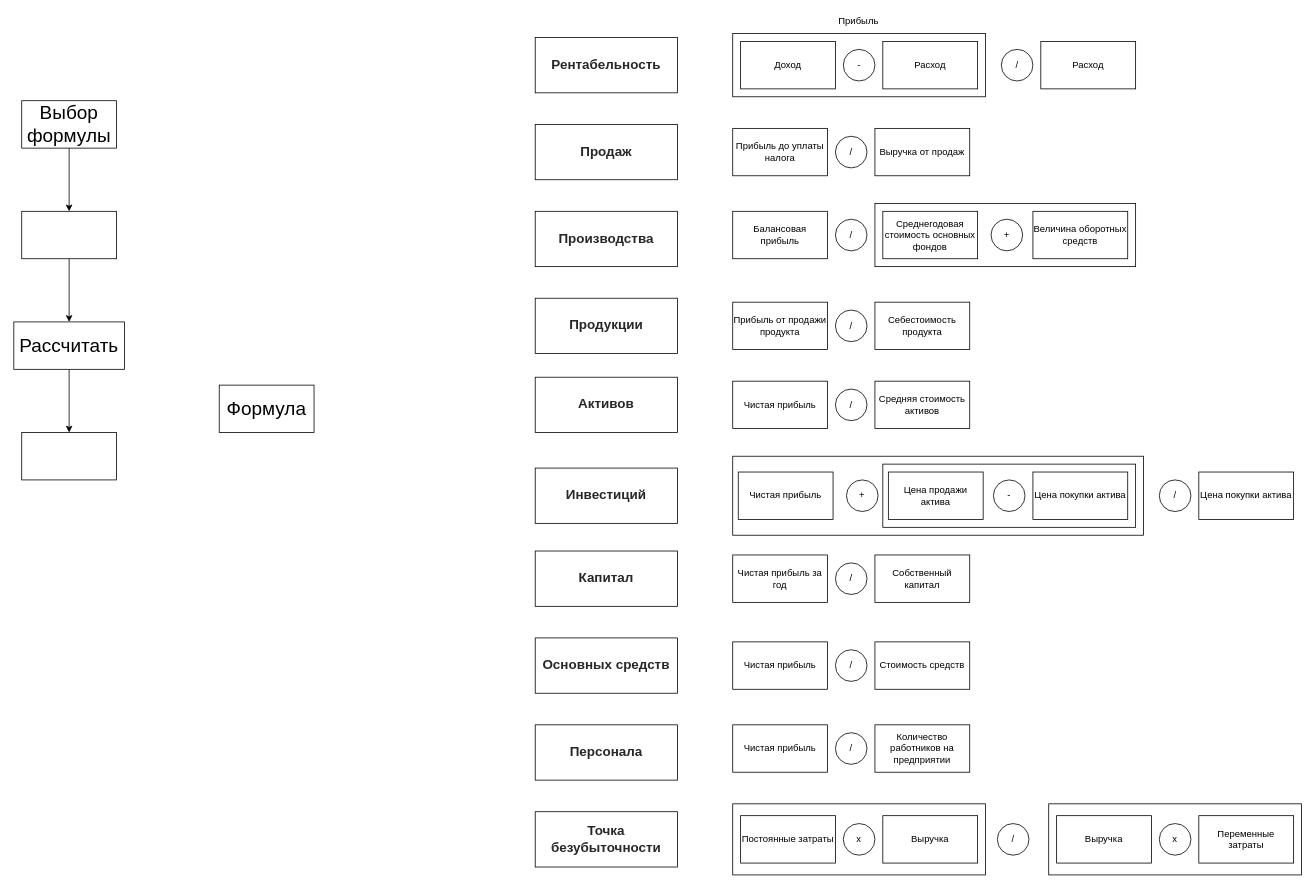
Image size: 1315x889. Some labels were removed from this diagram. The shapes that lost their labels are listed below. From the top down, each one's box as (x1, y1, x2, y2) in pixels, then its label:
(21, 211, 117, 259): Передать данные
(21, 432, 117, 480): Вывести результат
